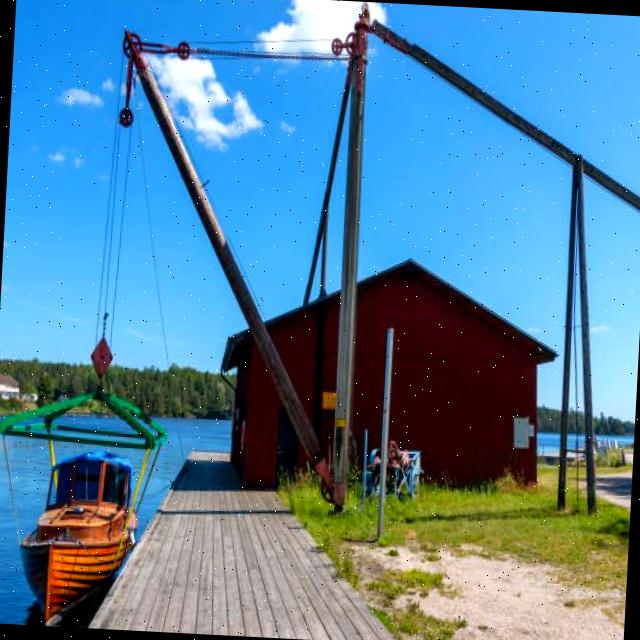Broken Pole: (133, 59, 332, 505)
